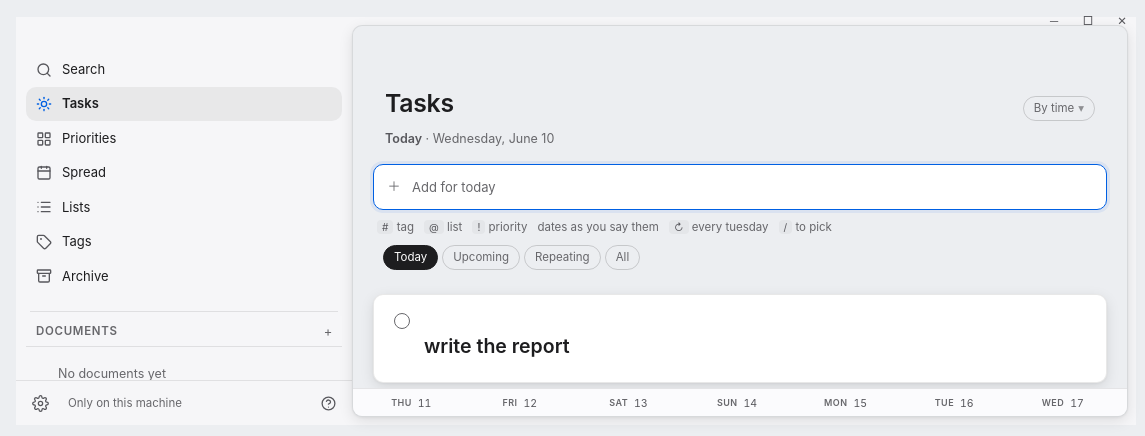
Test case: the trace layer acts on one task at a time › says where the trace went once it is all hidden
Check: the heading "write the report" is shown, box [424, 334, 570, 358]
Click the button "Archive" at (85, 276), box [26, 260, 342, 293]
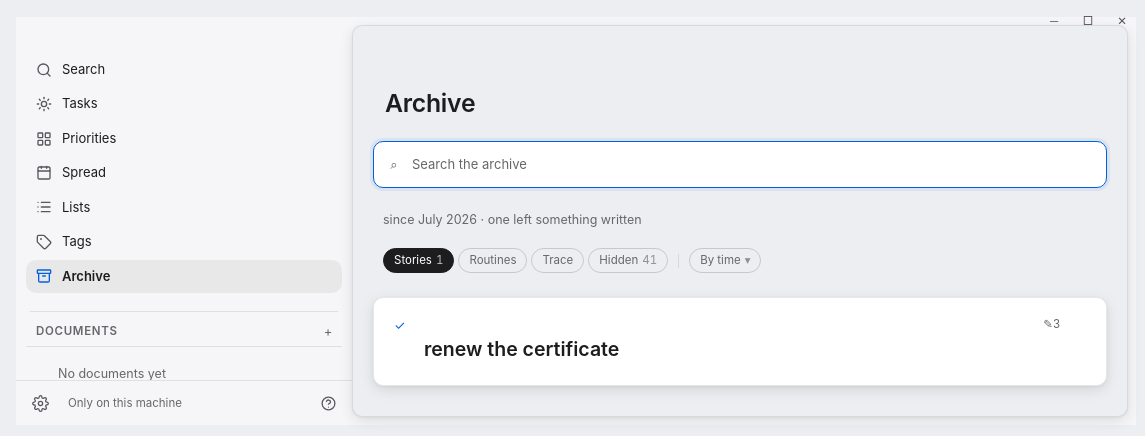
Check: the heading "renew the certificate" is shown, box [424, 337, 619, 361]
Click the button "Trace" at (558, 261), box [532, 248, 584, 273]
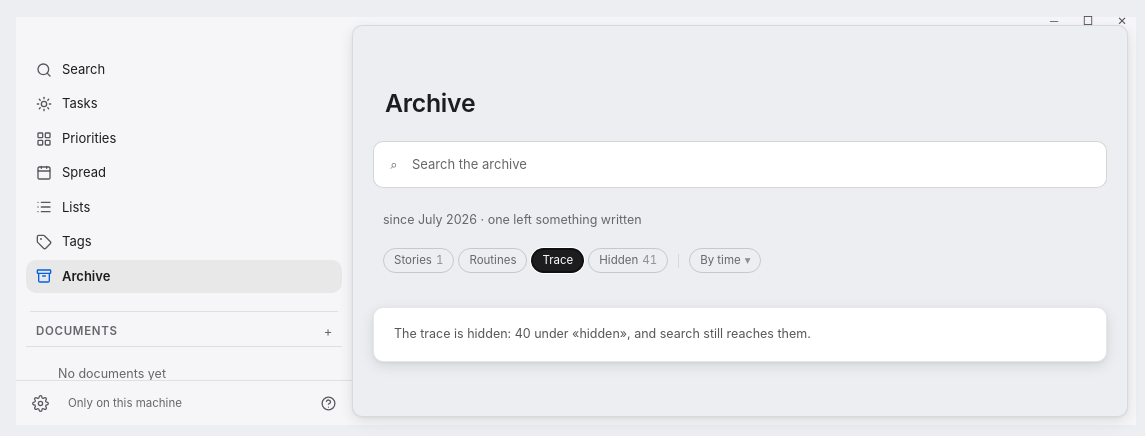
Check: the text "40 under «hidden»" is shown, box [394, 326, 811, 341]
